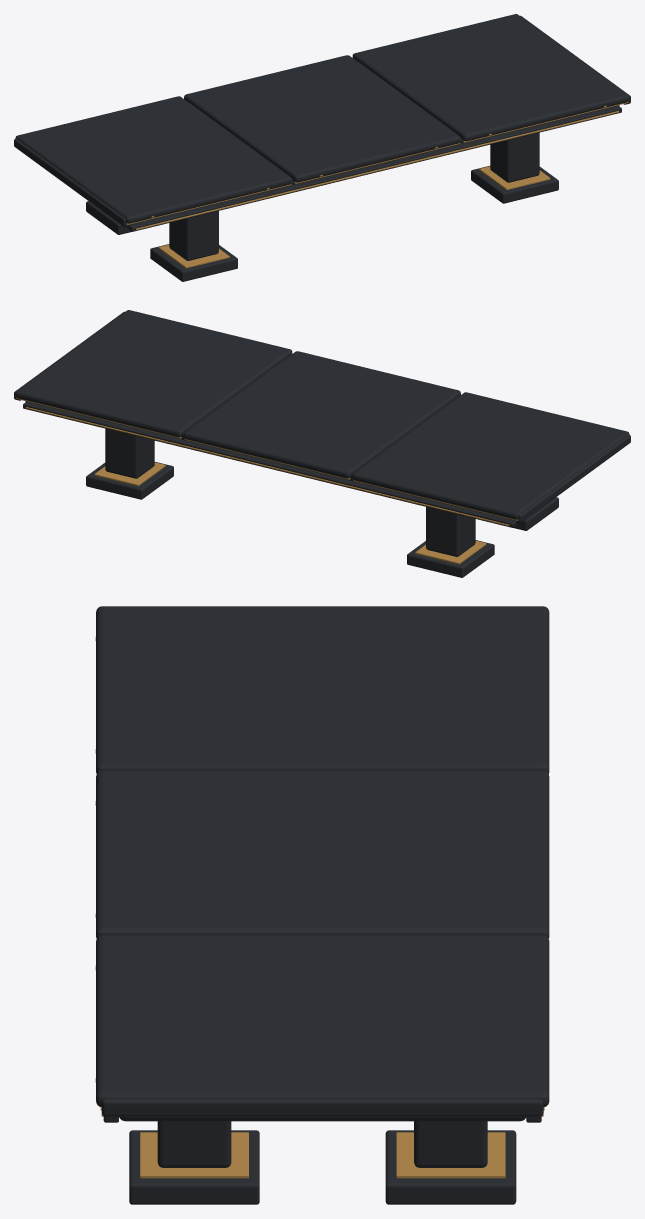
Rendered from SM_Aurelion_KIT_Z11ObservationTable.fbx.
3 views of the same model, one above another, from view 1: azimuth 30°, elevation 25°; view 2: azimuth 150°, elevation 25°; view 3: azimuth 270°, elevation 25° (orthographic). The views are drawn at different scales.
Visible parts, largest first — view 1: SM_Aurelion_KIT_Z11ObservationTable; view 2: SM_Aurelion_KIT_Z11ObservationTable; view 3: SM_Aurelion_KIT_Z11ObservationTable.
Boxes of the visible parts, <box> form: SM_Aurelion_KIT_Z11ObservationTable: <box>14,14,630,281</box>; SM_Aurelion_KIT_Z11ObservationTable: <box>14,310,630,577</box>; SM_Aurelion_KIT_Z11ObservationTable: <box>95,606,549,1204</box>.
Bounding box in the file's own units: 494 × 191 × 80.
